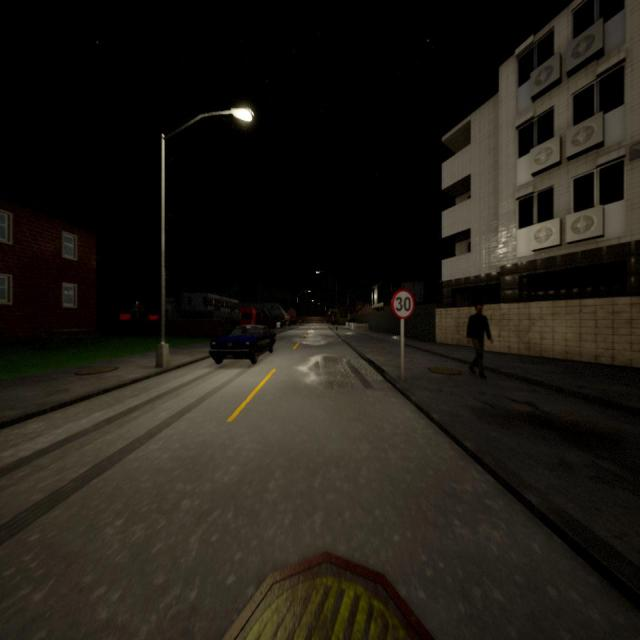Pedestrian: (467, 300, 493, 378)
Traffic_Signs: (392, 288, 414, 320)
Vehicle: (209, 325, 275, 363)
traffic_light: (328, 311, 331, 316)
